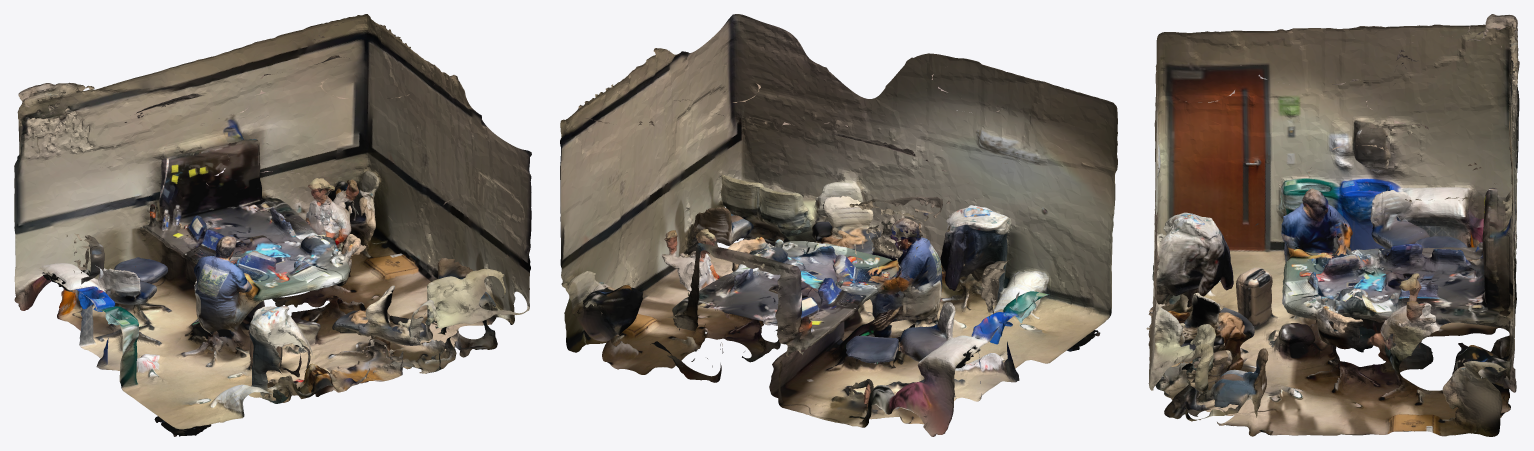
File: scan.glb
3 views of the same model, side by side, from view 1: azimuth 30°, elevation 25°; view 2: azimuth 150°, elevation 25°; view 3: azimuth 270°, elevation 25° (orthographic). The views are drawn at different scales.
Bounding box in the file's own units: 4.44 × 2.81 × 3.68.
3 materials, 3 textured.
